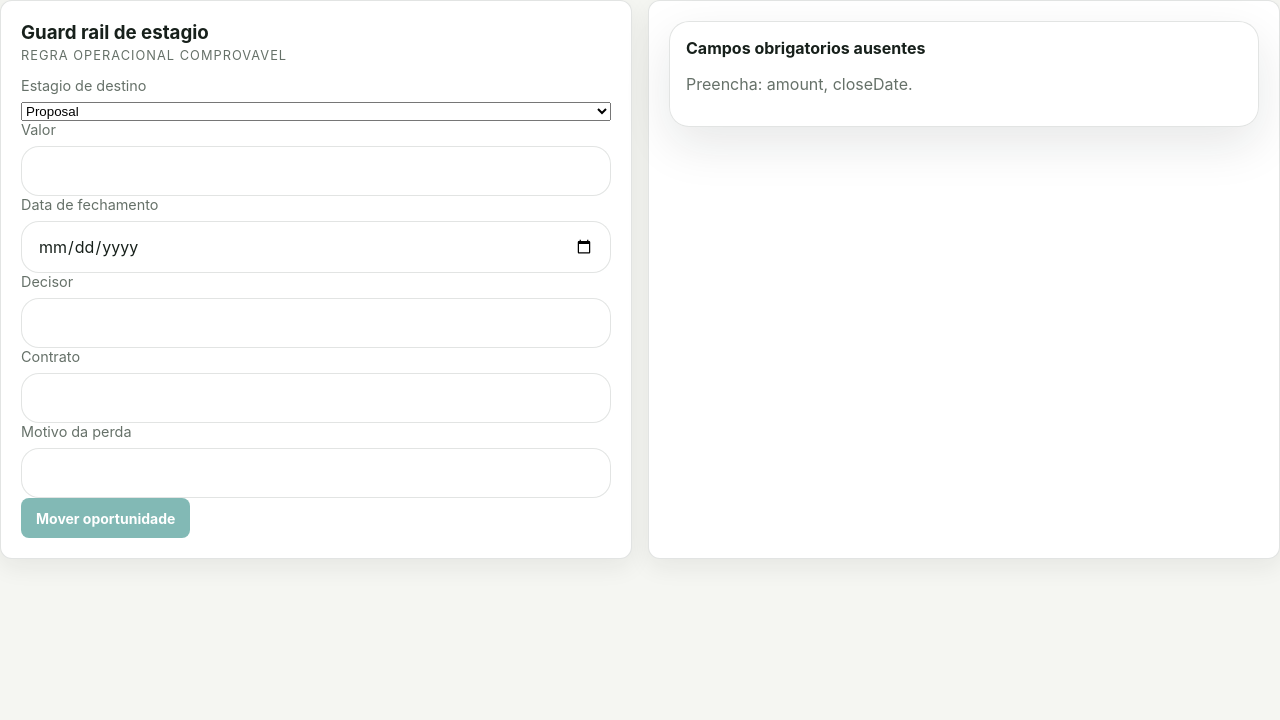
Test: Sprint2DomainExperience › requires the extra configured field for negotiation
Select "Negotiation" in the dropdown labelled "Estagio de destino": (316, 112) [21, 102, 611, 121]
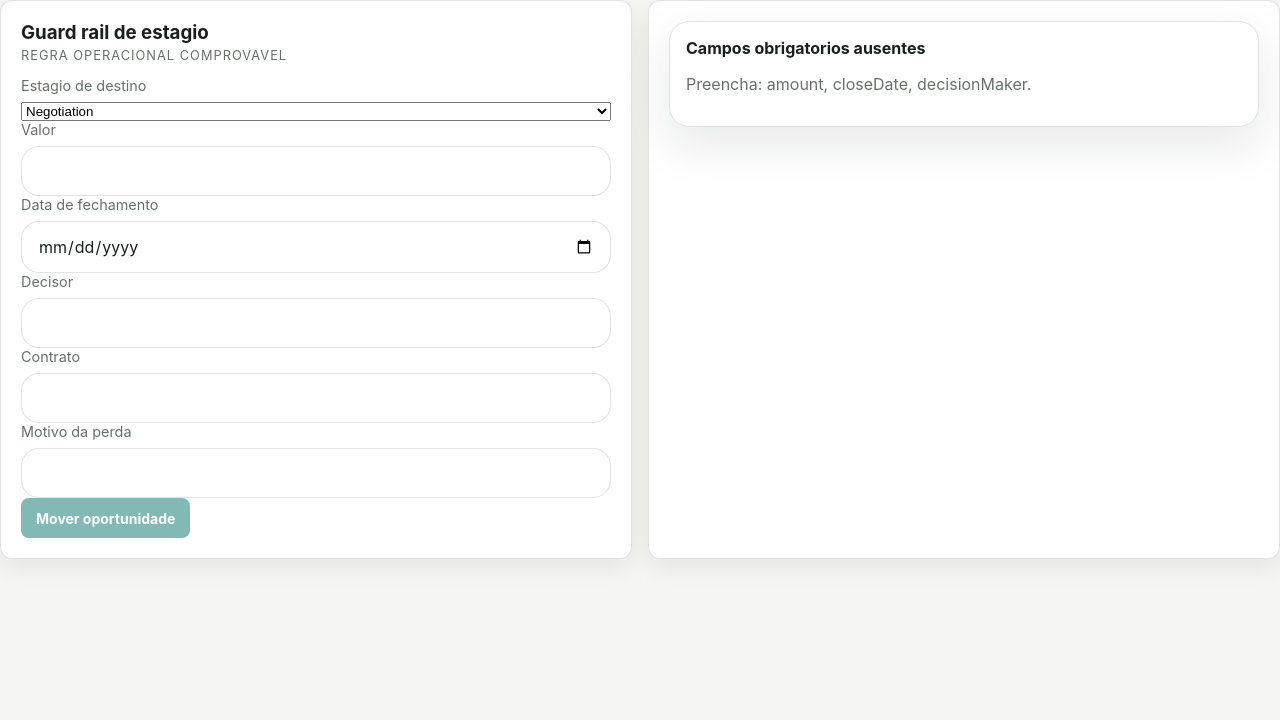
In the field named "Valor da oportunidade": (316, 171) [21, 146, 611, 196], type "150000"
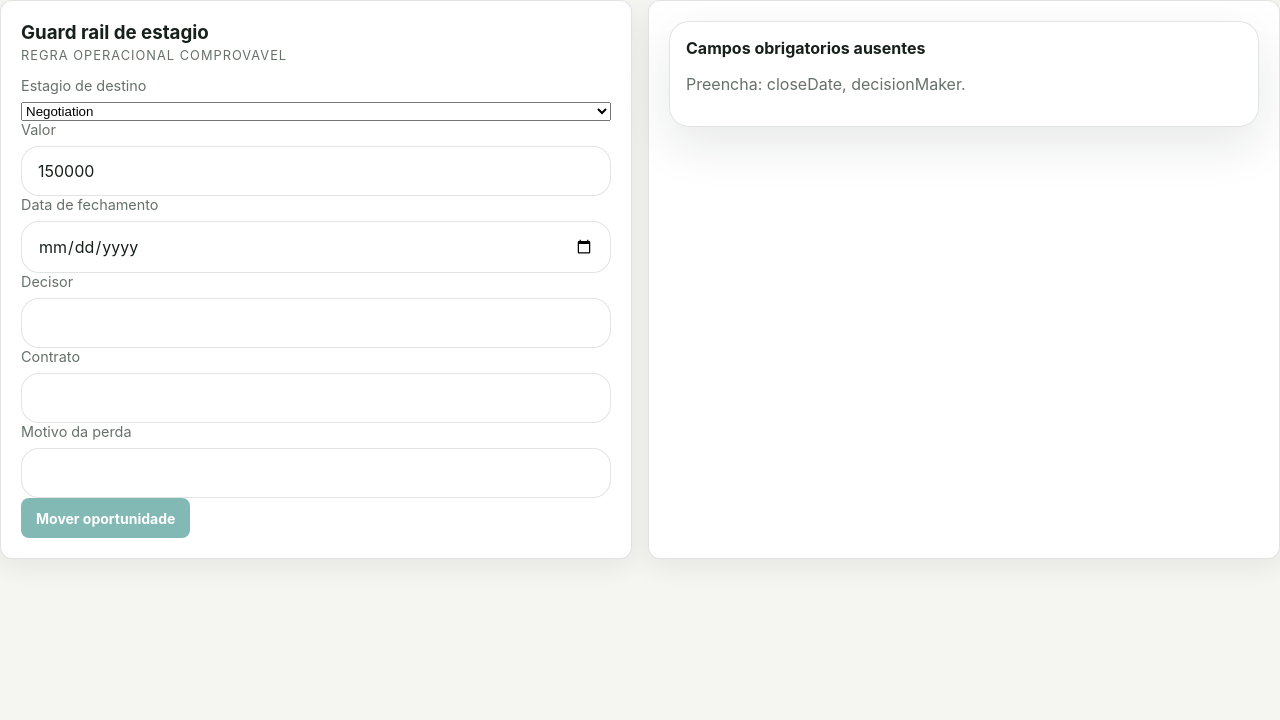
In the date field labelled "Data de fechamento": (316, 247) [21, 221, 611, 273], type "2026-08-01"
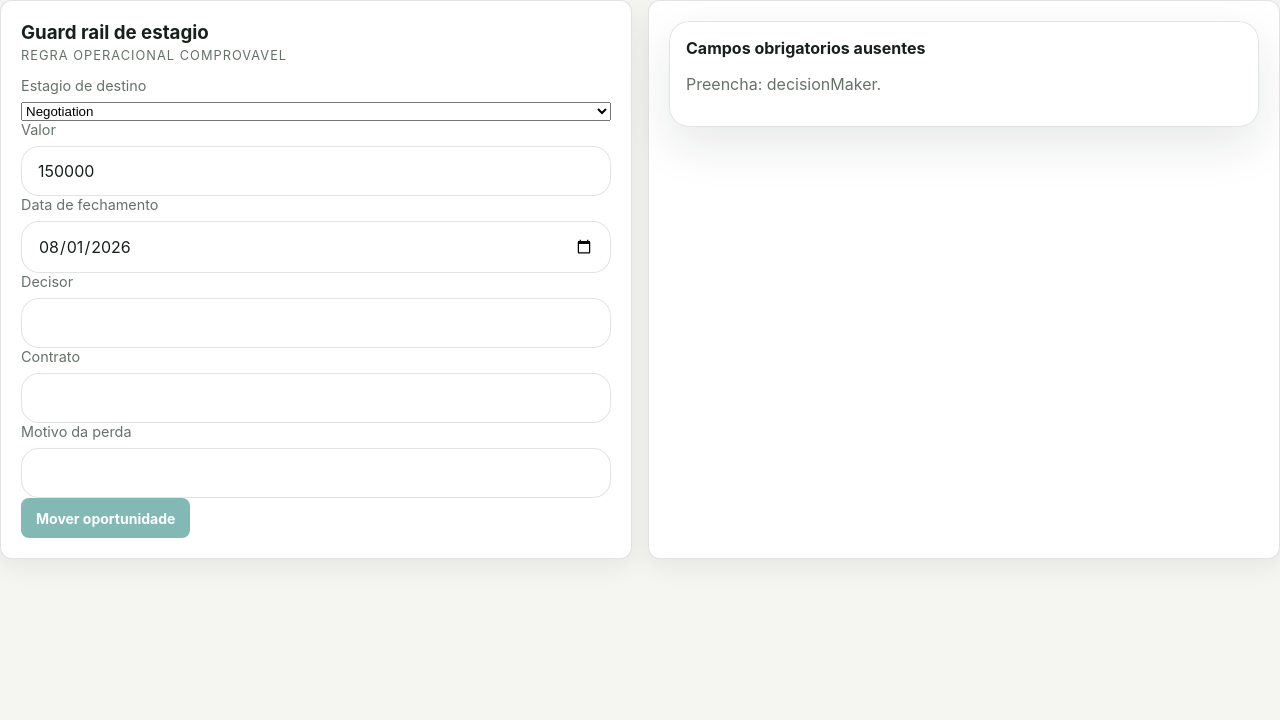
Expected: the message shows "decisionMaker", [686, 74, 881, 94]
In the field labelled "Decisor": (316, 323) [21, 298, 611, 348], type "CFO"
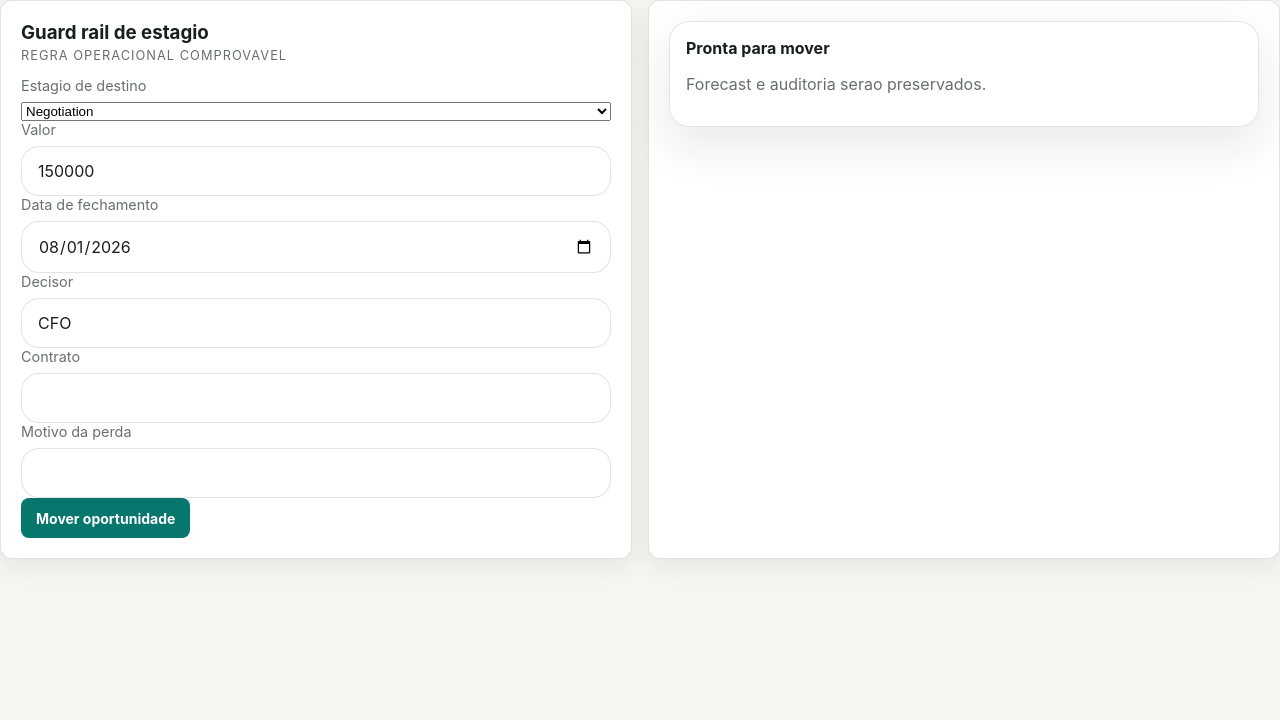
Expected: the button "Mover oportunidade" is enabled, [21, 498, 190, 538]
